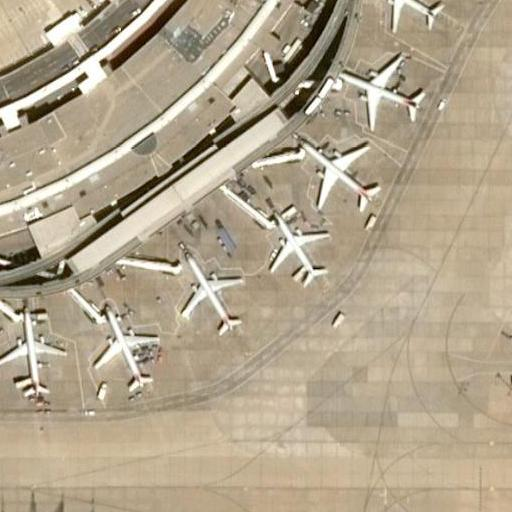Aircraft: (296, 135, 393, 221), (334, 56, 431, 138), (0, 310, 66, 408), (257, 204, 330, 291), (173, 249, 242, 335), (94, 306, 162, 390), (352, 0, 456, 36)
